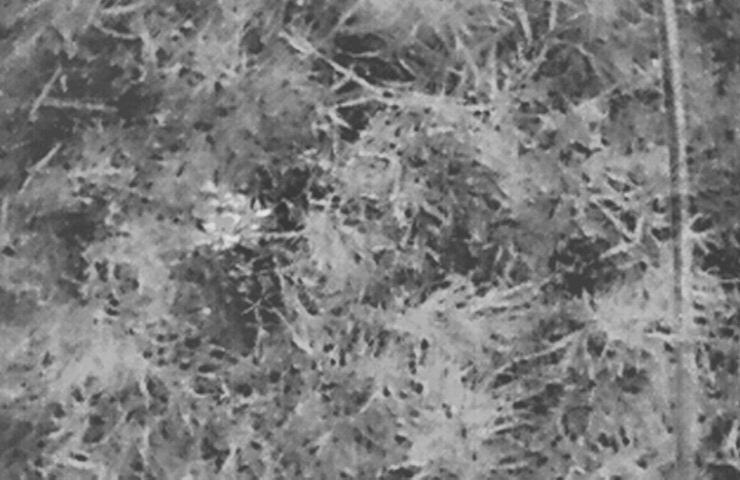landmines: (187, 178, 266, 250)
